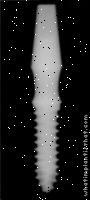Osstem Implant: (28, 4, 63, 194)
